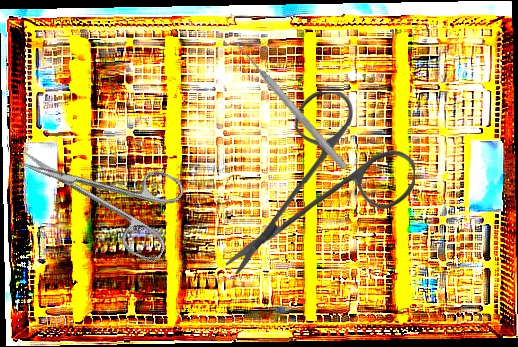Iris Scissors: (225, 89, 417, 278), (5, 115, 194, 266)
Pusher: (233, 40, 349, 171)
